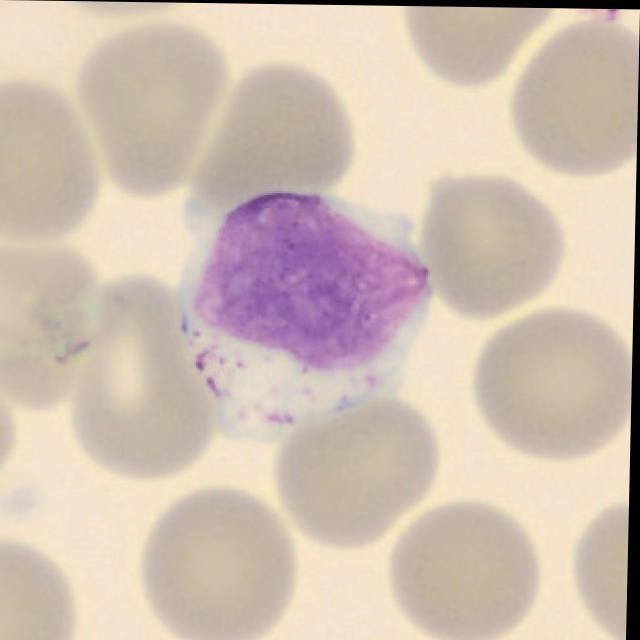Linfocito atipico: (180, 188, 433, 439)
